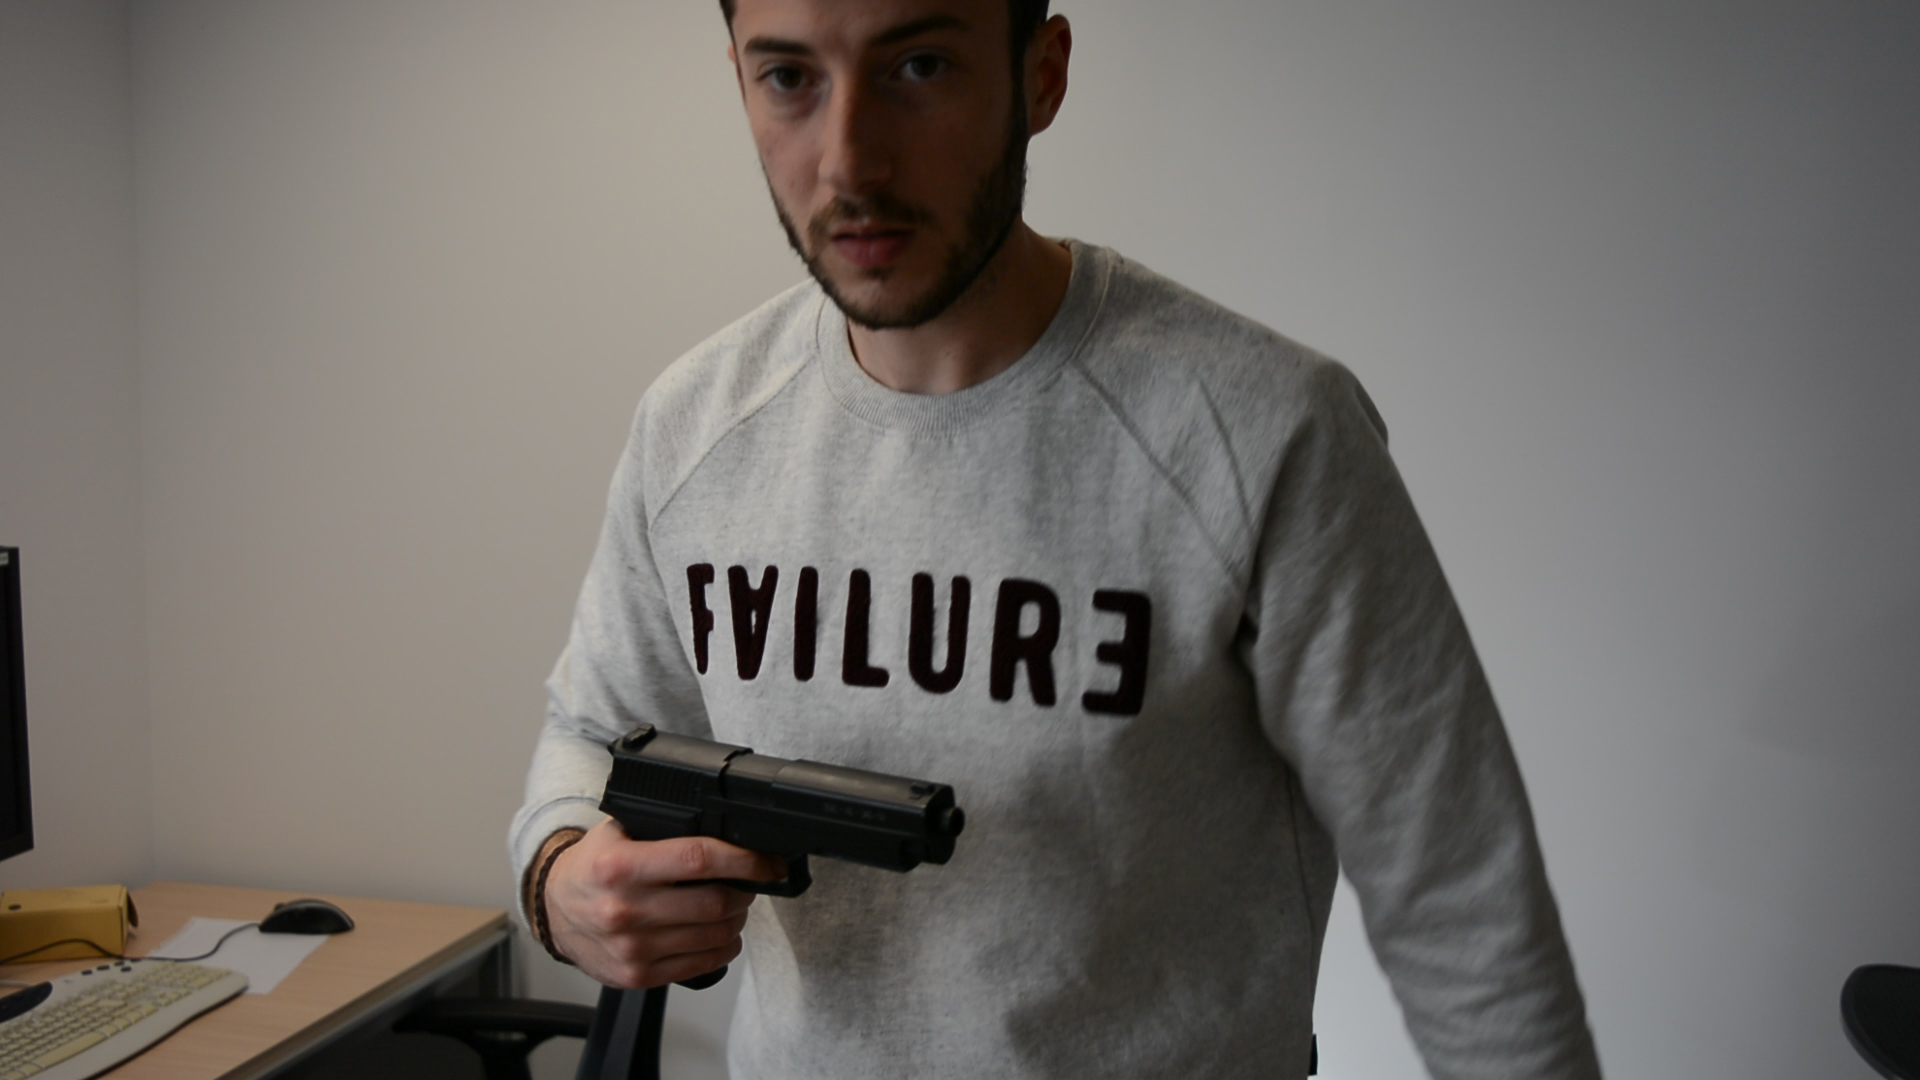pistol: (596, 721, 967, 993)
